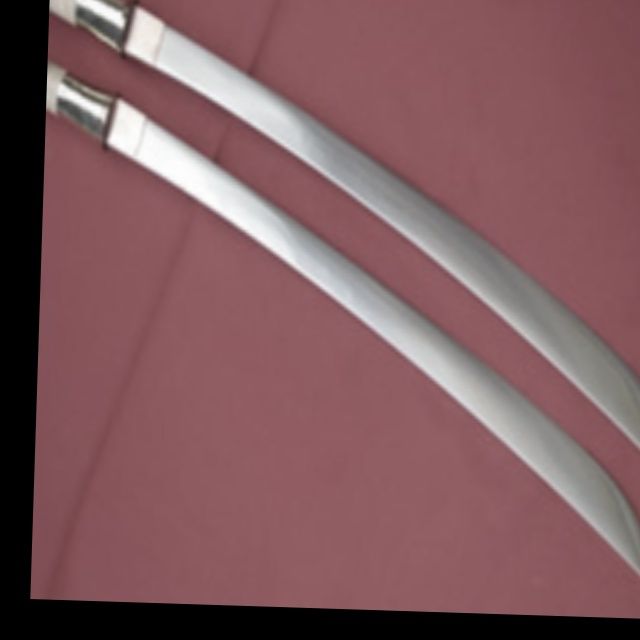Sharp-Object: (30, 60, 640, 620), (42, 0, 640, 505)
